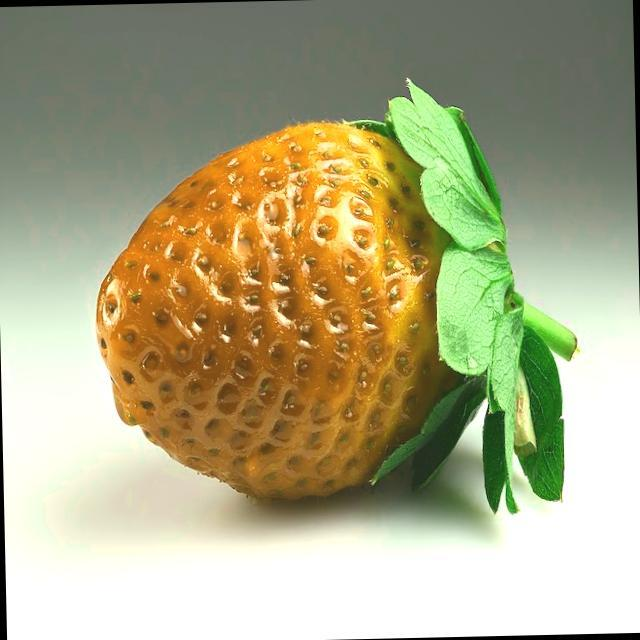strawberry: (96, 82, 576, 511)
